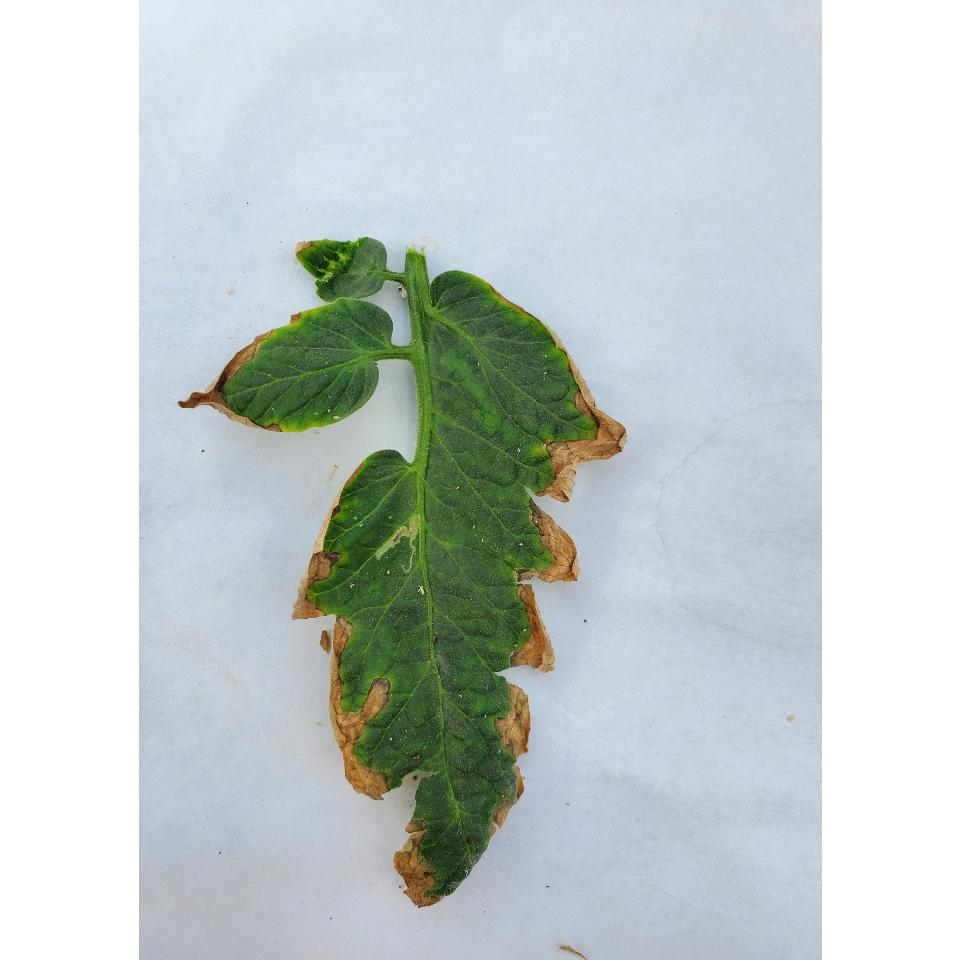tomato_bacterial_blight: (295, 238, 611, 898)
